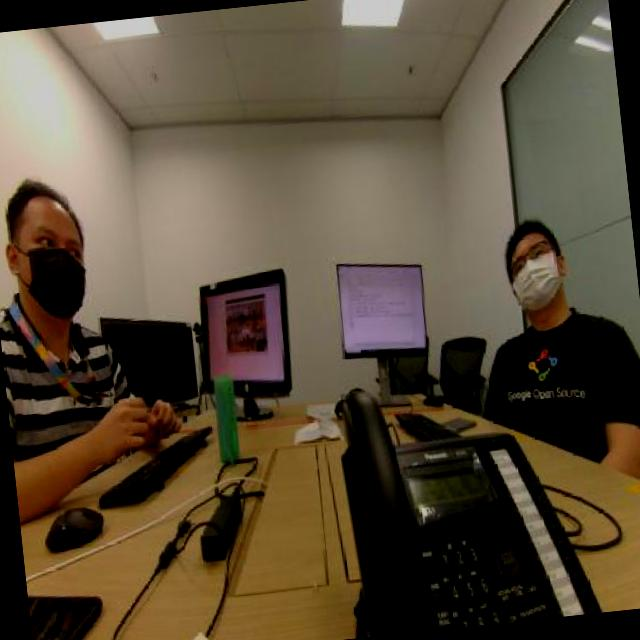Person: (0, 160, 138, 458), (485, 182, 636, 442)
